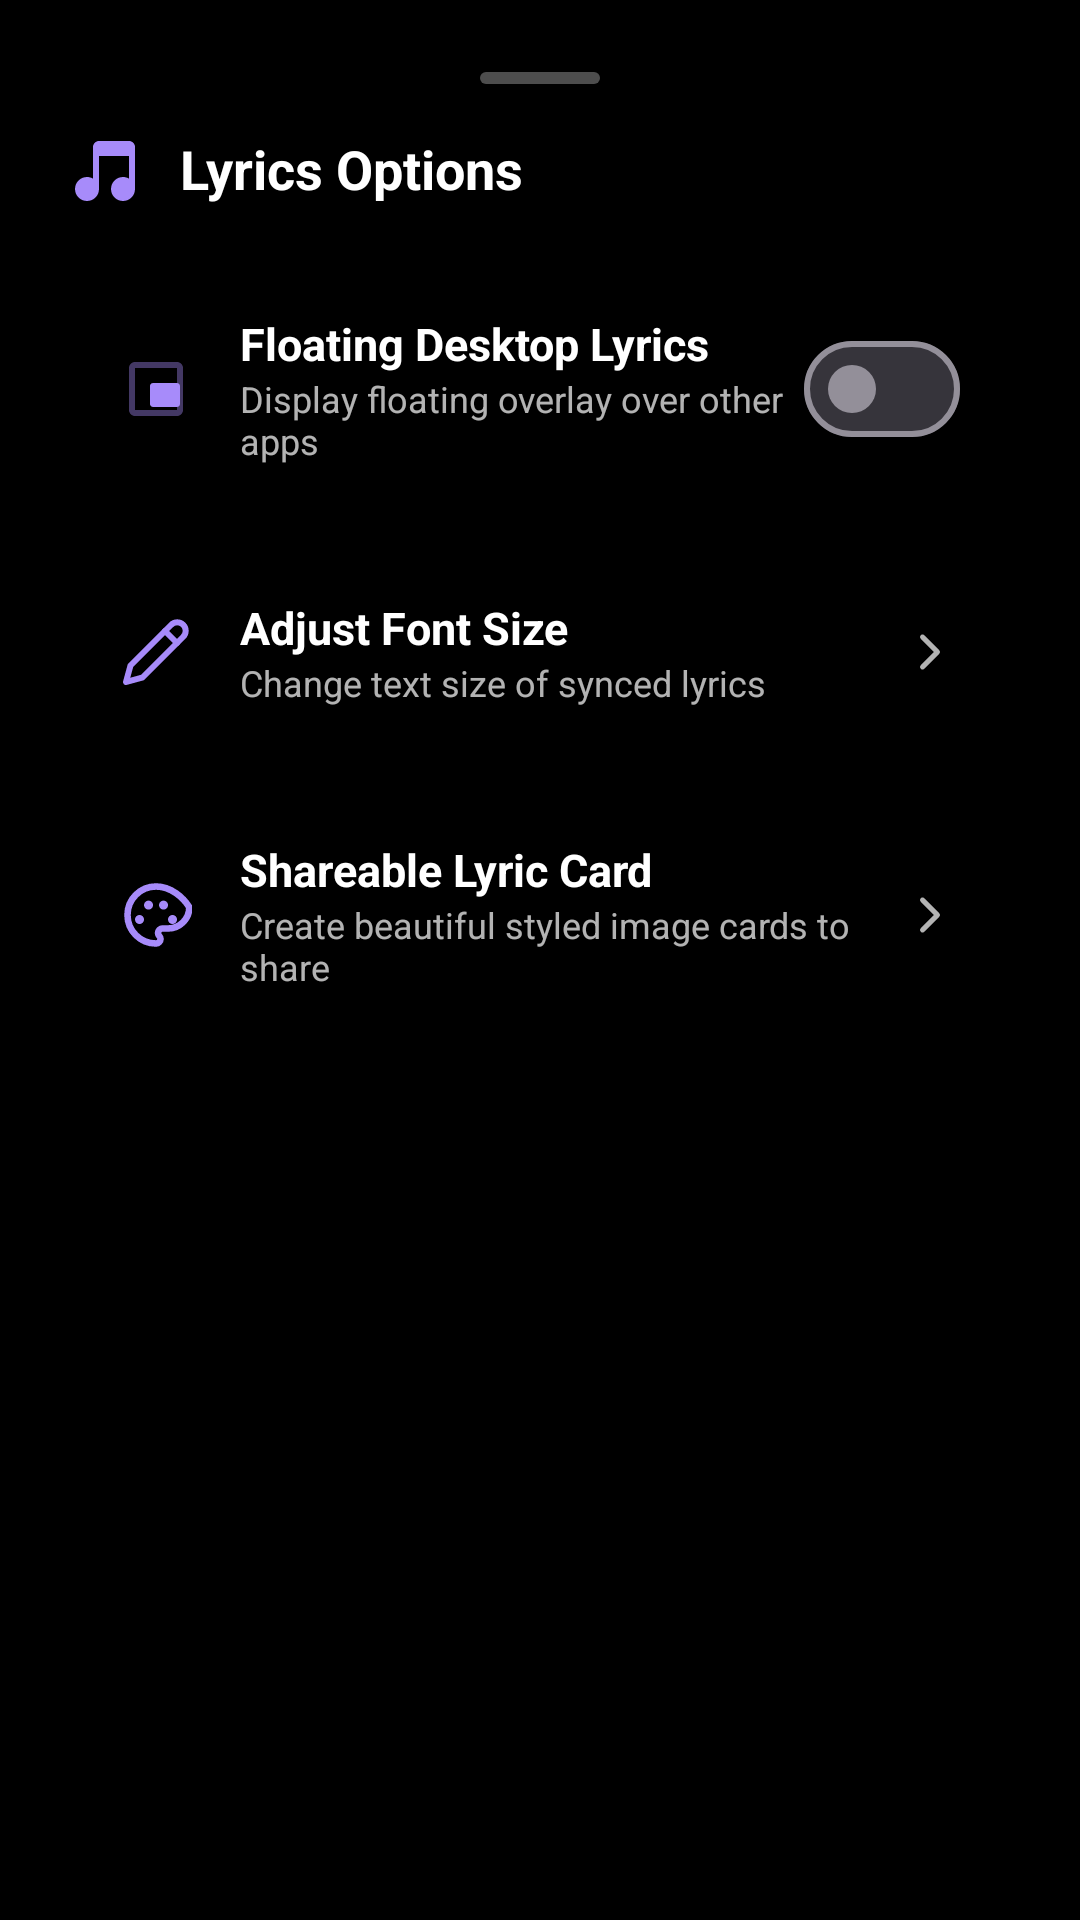

Screen size 1080px x 1920px. Icon name, then its center in pixels as point (x, y):
chevron right: point (930, 652), point (930, 915)
edit: point (156, 652)
floating window: point (156, 389)
music note: point (105, 171)
palette: point (158, 915)
